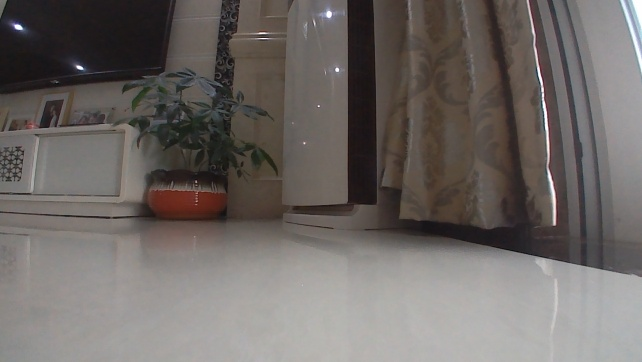TV_stand1: (0, 120, 158, 221)
